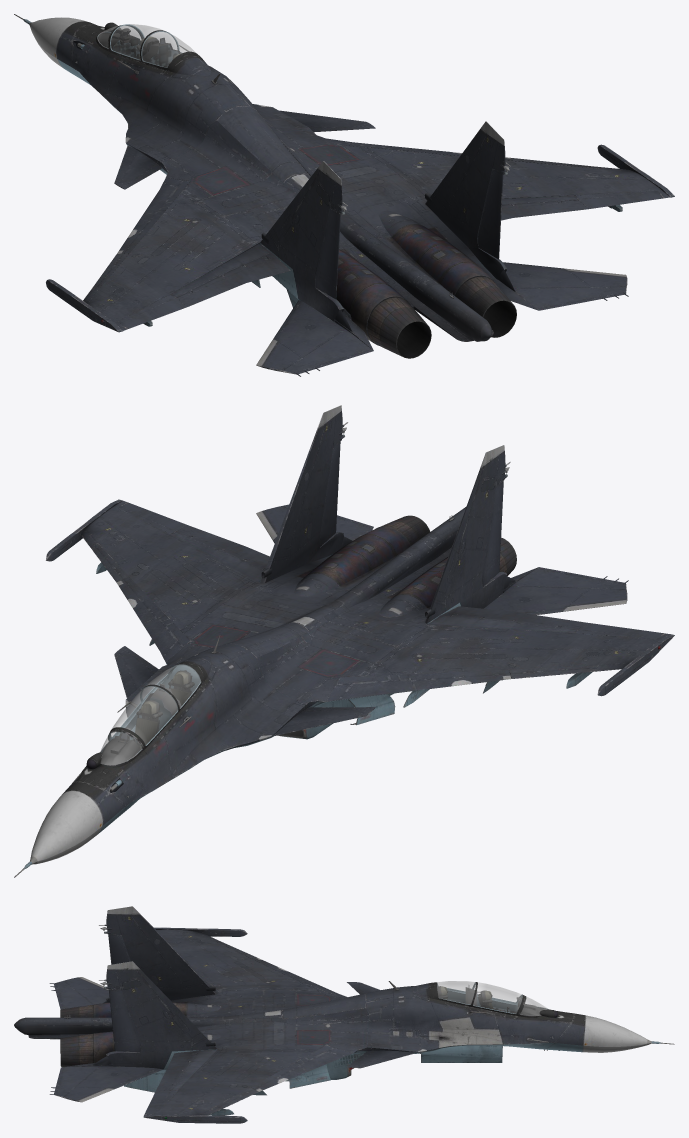
The picture shows the model from 3 angles, top to bottom: view 1: azimuth 30°, elevation 25°; view 2: azimuth 150°, elevation 25°; view 3: azimuth 270°, elevation 25°; orthographic projection. The views are drawn at different scales.
Visible parts, largest first — view 1: Material.005, glass; view 2: Material.005, glass; view 3: Material.005, glass.
Part boxes in pixels (<box>): Material.005: <box>14,14,674,376</box>; glass: <box>97,24,195,67</box>; Material.005: <box>14,405,674,877</box>; glass: <box>100,664,200,764</box>; Material.005: <box>14,906,674,1123</box>; glass: <box>437,981,548,1015</box>.
Bounding box in the file's own units: 14.89 × 4.84 × 21.99.
Materials: 2 (1 with a texture image).
